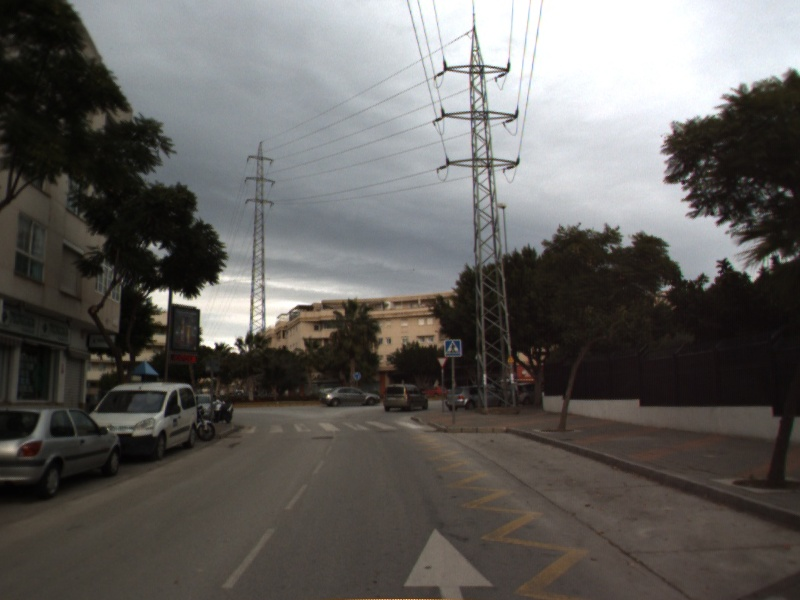STRAIGHT: (400, 523, 497, 600)
